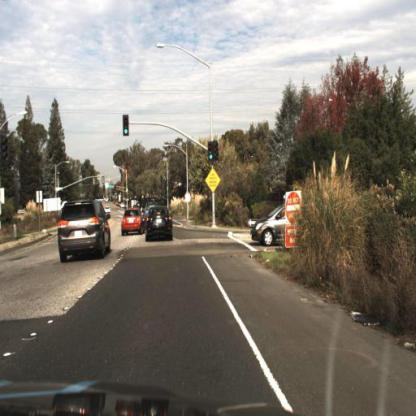car: (56, 200, 111, 263), (251, 206, 287, 248), (146, 206, 177, 246), (121, 208, 149, 240)
trafficLight-Green: (124, 113, 132, 138), (208, 140, 216, 163)
